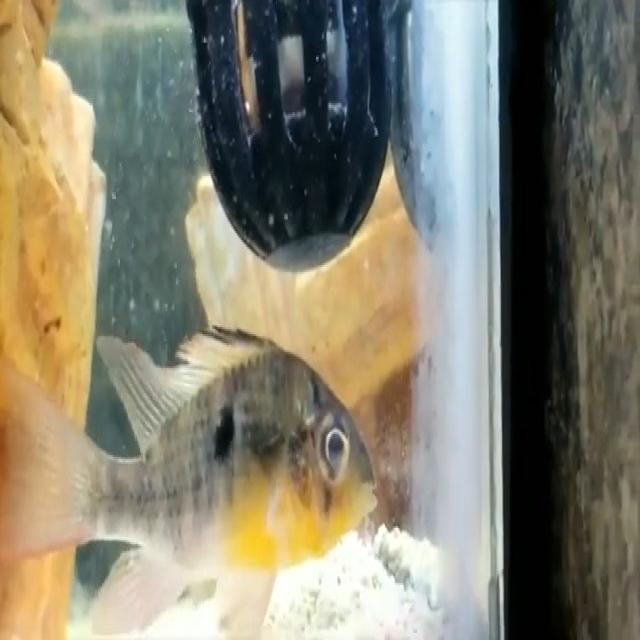fish: (3, 331, 380, 637)
